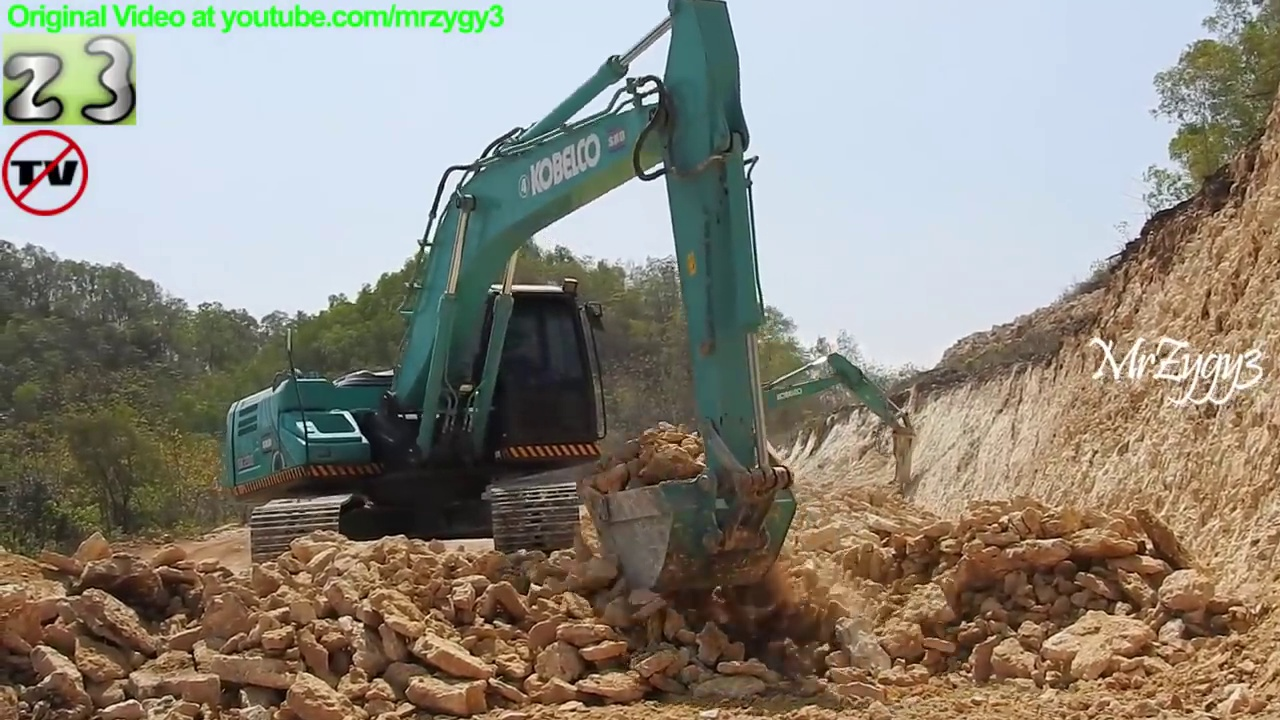excavator: (218, 1, 806, 605), (630, 348, 920, 514)
